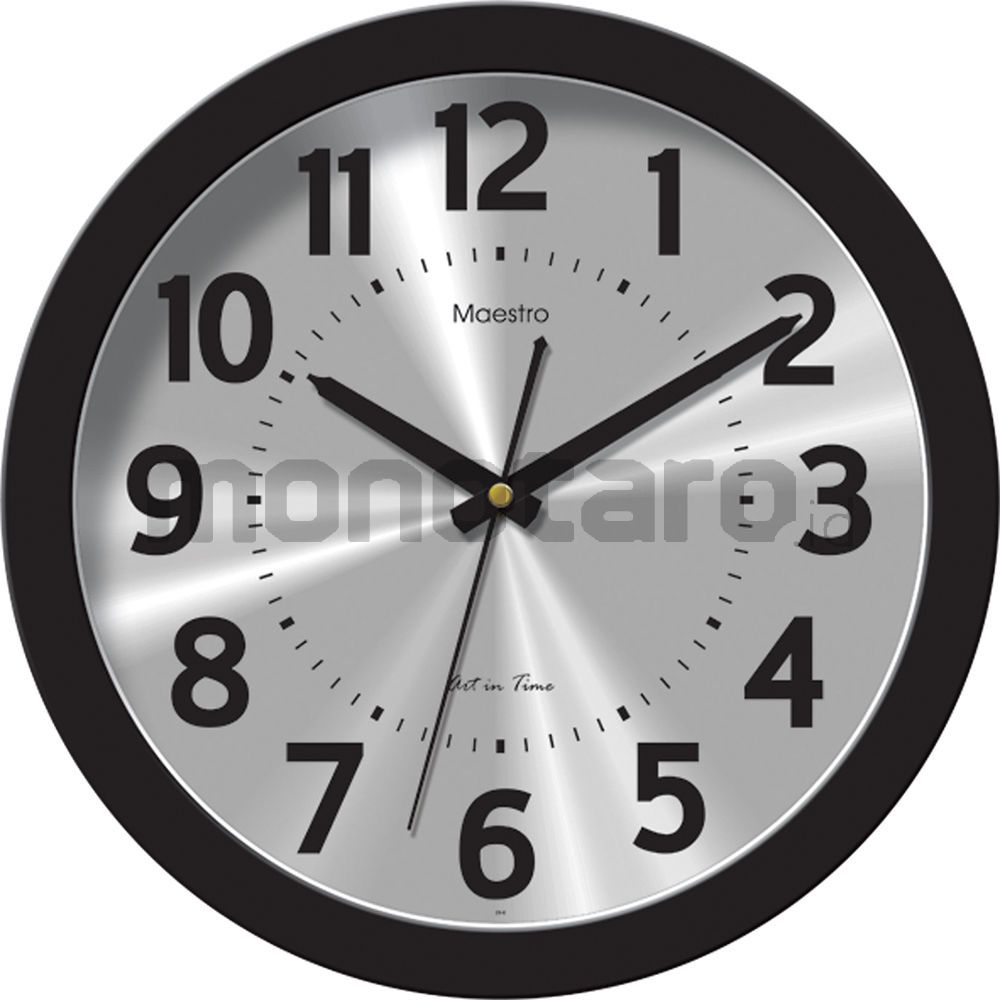jam dinding: (12, 11, 1000, 969)
